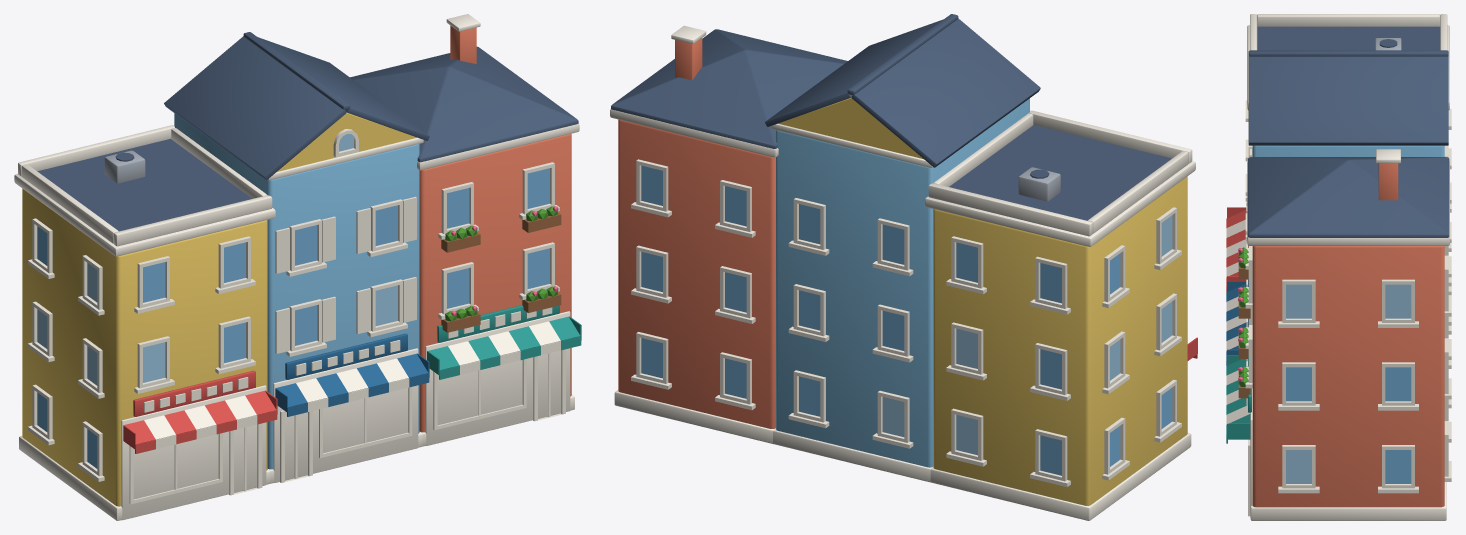
The model's file is building_shops.glb.
3 renders of one model, left to right at view 1: azimuth 30°, elevation 25°; view 2: azimuth 150°, elevation 25°; view 3: azimuth 270°, elevation 25°, orthographic. The views are drawn at different scales.
Visible parts, largest first — view 1: building; view 2: building; view 3: building.
Part boxes in pixels (x1,y1,x2,y2): building: (14, 14, 581, 520); building: (610, 14, 1197, 520); building: (1226, 14, 1451, 520).
Bounding box in the file's own units: 16.18 × 11.94 × 6.81.
